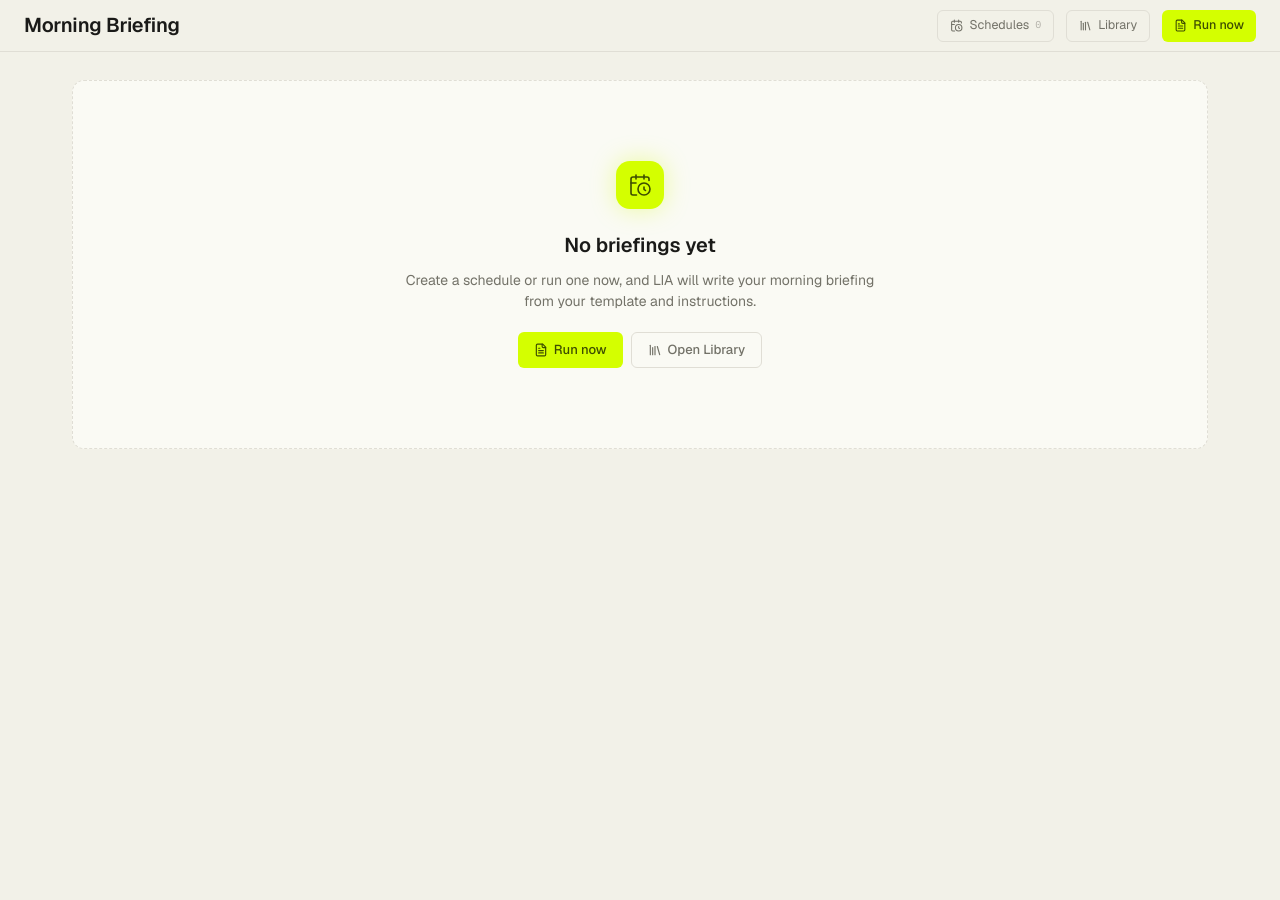
Test: MorningBriefing page › opens the Run now modal
Click the 1st button "Run now".
click(1209, 26)  # box [1162,10,1256,42]
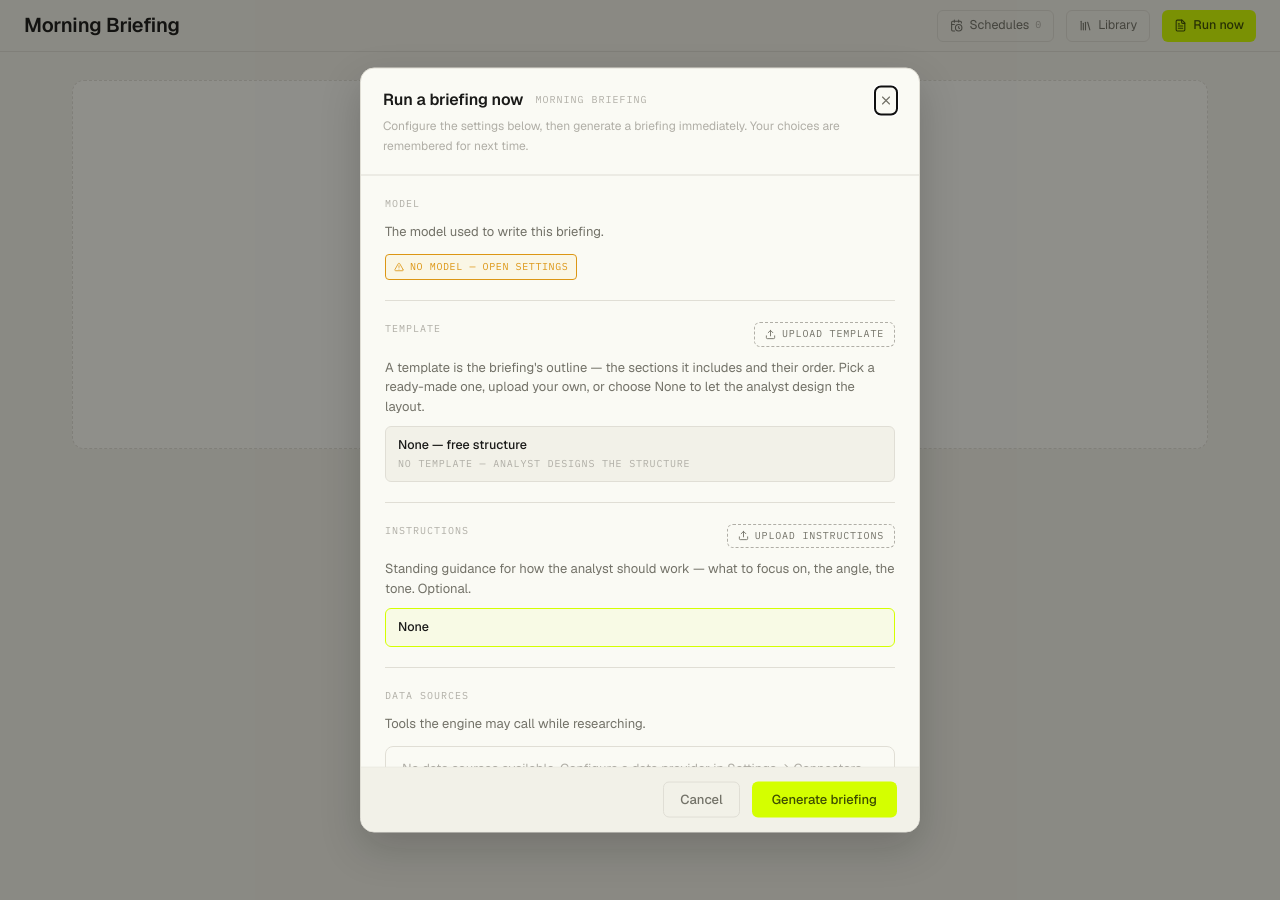
Result: the button with test id "mb-run-now-start" is shown at [752,782,897,818]
